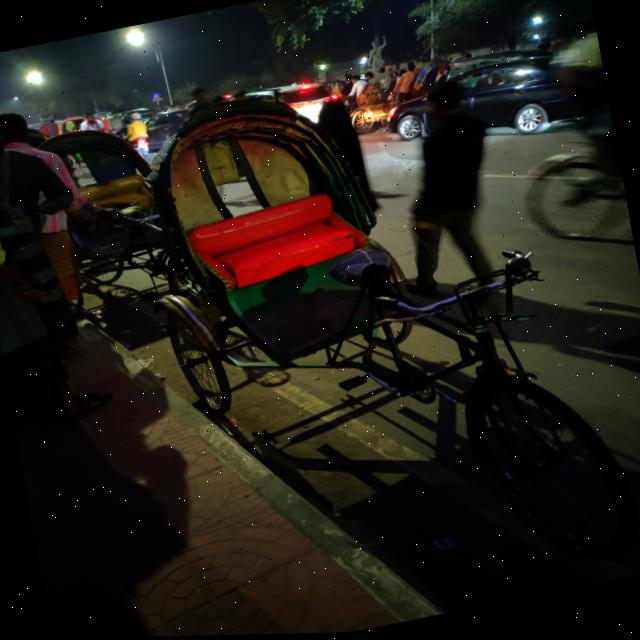rikshaw: (120, 53, 640, 638)
